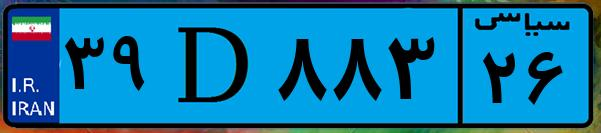2: (475, 38, 525, 113)
3: (385, 28, 445, 110), (57, 26, 110, 100)
6: (525, 38, 570, 115)
8: (270, 28, 330, 110), (330, 28, 385, 110)
9: (110, 28, 158, 98)
D: (158, 12, 270, 120)
